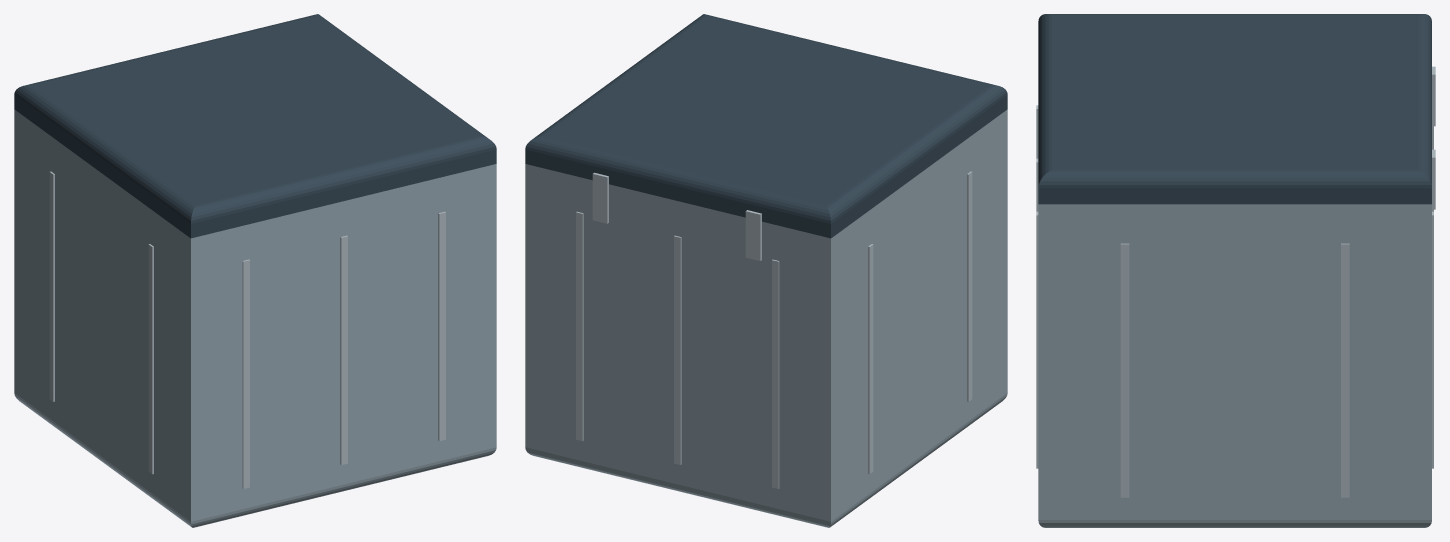
File: BoxMagazine.obj
3 renders of one model, left to right at view 1: azimuth 30°, elevation 25°; view 2: azimuth 150°, elevation 25°; view 3: azimuth 270°, elevation 25°, orthographic. The views are drawn at different scales.
Parts seen in each view (by area): view 1: AEBoxBody, AEBoxLid, AEBoxHardware; view 2: AEBoxBody, AEBoxLid, AEBoxHardware; view 3: AEBoxBody, AEBoxLid, AEBoxHardware.
Boxes of the visible parts, bbox=[...] form: AEBoxBody: bbox=[14, 109, 496, 527]; AEBoxLid: bbox=[14, 14, 496, 238]; AEBoxHardware: bbox=[49, 171, 445, 488]; AEBoxBody: bbox=[525, 109, 1007, 527]; AEBoxLid: bbox=[525, 14, 1007, 238]; AEBoxHardware: bbox=[576, 171, 972, 488]; AEBoxBody: bbox=[1038, 204, 1431, 527]; AEBoxLid: bbox=[1038, 14, 1431, 204]; AEBoxHardware: bbox=[1036, 66, 1435, 497].
Bounding box in the file's own units: 1.01 × 1 × 1.01.
